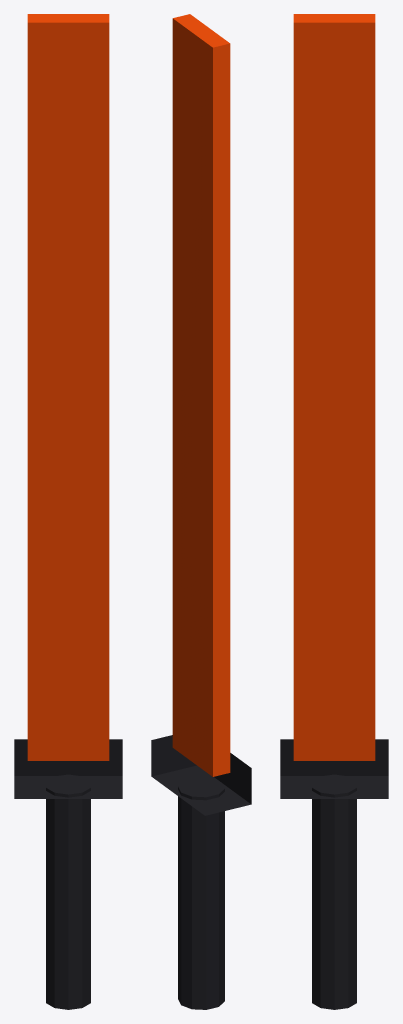
The model's file is thermal_blade.obj.
The picture shows the model from 3 angles, left to right: view 1: azimuth 90°, elevation 25°; view 2: azimuth 210°, elevation 25°; view 3: azimuth 270°, elevation 25°; orthographic projection.
Visible parts, largest first — view 1: ThermalBlade; view 2: ThermalBlade; view 3: ThermalBlade.
Boxes of the visible parts, x1=… form: ThermalBlade: x1=14, y1=14, x2=122, y2=1009; ThermalBlade: x1=151, y1=14, x2=251, y2=1009; ThermalBlade: x1=280, y1=14, x2=388, y2=1009.
Size of the model in its own units: 0.08 by 1.59 by 0.16.
